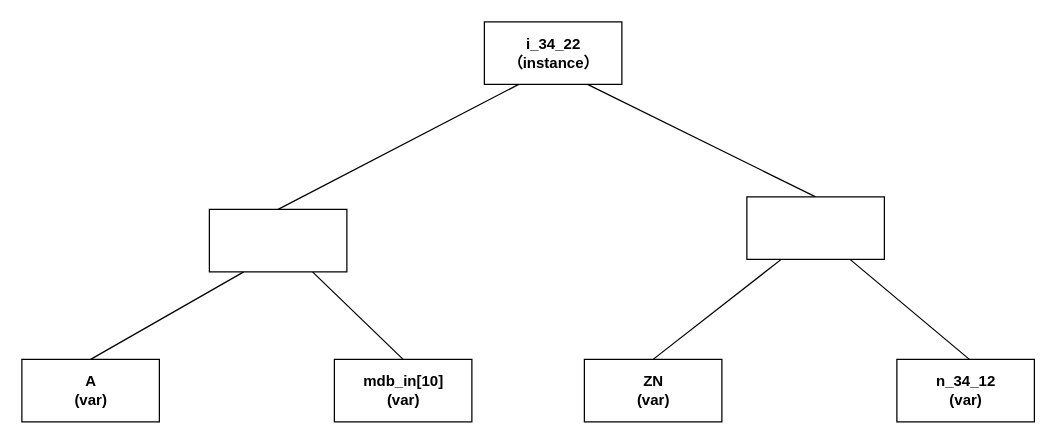
The diagram is 1056 pixels wide and 444 high, and some of its shapes have lost their labels. The box of each missing label's shape, as (x1, y1, x2, y2) in pixels:
.A(mdb_in[10]) (port): (208, 208, 347, 272)
.ZN(n_34_12) (port): (746, 196, 884, 259)
